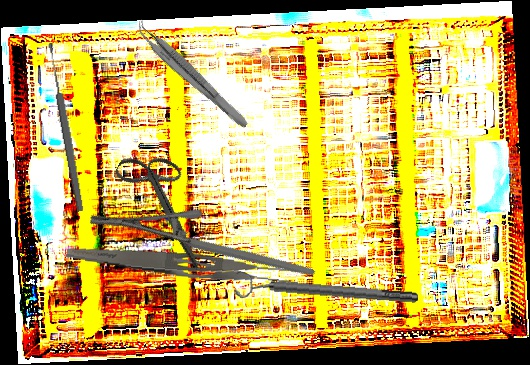Dressing Forceps: (65, 242, 300, 290)
Fixation Ring: (233, 268, 419, 314)
Iris Scissors: (92, 140, 237, 270)
Needle Holder: (86, 151, 316, 342)
Surgical Spoon: (45, 41, 86, 213)
Tissue Forceps: (129, 17, 256, 131)
